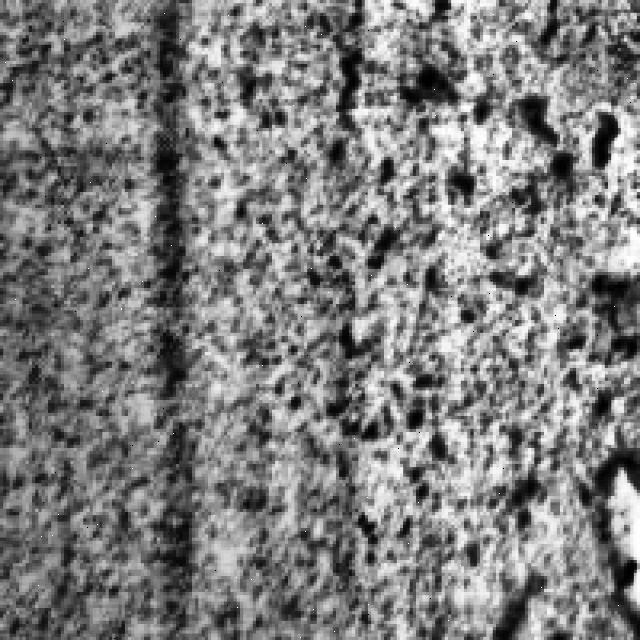Rolled_in_Scale: (51, 0, 582, 570), (384, 57, 640, 634)
